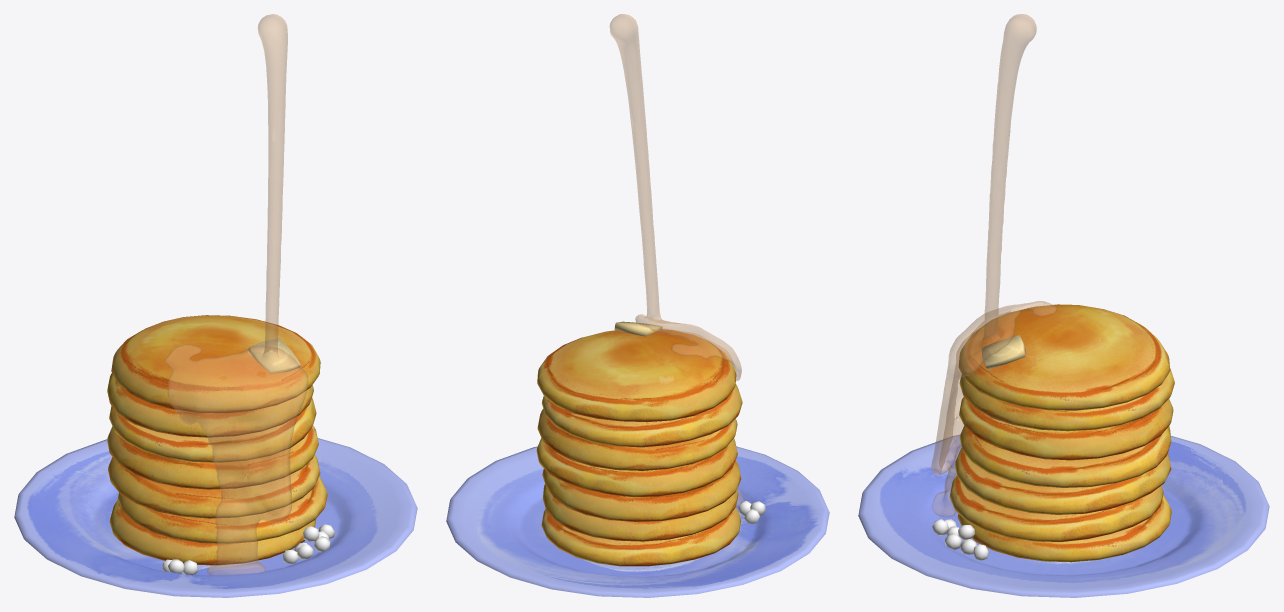
Rendered from mdl.pancake-syrup.glb.
The picture shows the model from 3 angles, left to right: view 1: azimuth 30°, elevation 25°; view 2: azimuth 150°, elevation 25°; view 3: azimuth 270°, elevation 25°; orthographic projection. The views are drawn at different scales.
Visible parts, largest first — view 1: GEO.Plate, fluid_surface, GEO.Pancake.006, GEO.Pancake.002, GEO.Pancake.003, GEO.Pancake.001, GEO.Pancake.004, GEO.Pancake.005, GEO.Pancake, GEO.Butter; view 2: GEO.Plate, GEO.Pancake.006, fluid_surface, GEO.Pancake.003, GEO.Pancake, GEO.Pancake.002, GEO.Pancake.005, GEO.Pancake.004, GEO.Pancake.001, GEO.Butter; view 3: GEO.Plate, GEO.Pancake.006, fluid_surface, GEO.Pancake.004, GEO.Pancake.003, GEO.Pancake.001, GEO.Pancake.002, GEO.Pancake.005, GEO.Pancake, GEO.Butter.
Boxes of the visible parts, <box> form: GEO.Plate: <box>14,438,417,597</box>; fluid_surface: <box>164,14,308,575</box>; GEO.Pancake.006: <box>111,315,320,413</box>; GEO.Pancake.002: <box>108,455,320,518</box>; GEO.Pancake.003: <box>107,425,318,489</box>; GEO.Pancake.001: <box>117,477,327,543</box>; GEO.Pancake.004: <box>109,397,316,462</box>; GEO.Pancake.005: <box>107,373,313,437</box>; GEO.Pancake: <box>109,500,315,565</box>; GEO.Butter: <box>248,338,300,373</box>; GEO.Plate: <box>446,446,829,597</box>; GEO.Pancake.006: <box>537,329,736,422</box>; fluid_surface: <box>610,14,743,506</box>; GEO.Pancake.003: <box>536,438,737,496</box>; GEO.Pancake: <box>541,507,741,566</box>; GEO.Pancake.002: <box>542,460,741,521</box>; GEO.Pancake.005: <box>541,384,742,447</box>; GEO.Pancake.004: <box>537,408,737,470</box>; GEO.Pancake.001: <box>542,484,738,541</box>; GEO.Butter: <box>614,321,662,336</box>; GEO.Plate: <box>858,435,1269,597</box>; GEO.Pancake.006: <box>958,304,1170,410</box>; fluid_surface: <box>931,14,1056,516</box>; GEO.Pancake.004: <box>959,397,1173,460</box>; GEO.Pancake.003: <box>960,426,1171,487</box>; GEO.Pancake.001: <box>949,476,1163,541</box>; GEO.Pancake.002: <box>955,448,1171,514</box>; GEO.Pancake.005: <box>959,368,1174,431</box>; GEO.Pancake: <box>957,494,1171,562</box>; GEO.Butter: <box>981,334,1025,369</box>.
Bounding box in the file's own units: 0.2381 × 0.3379 × 0.2381.
Materials: 20 (9 with a texture image).
